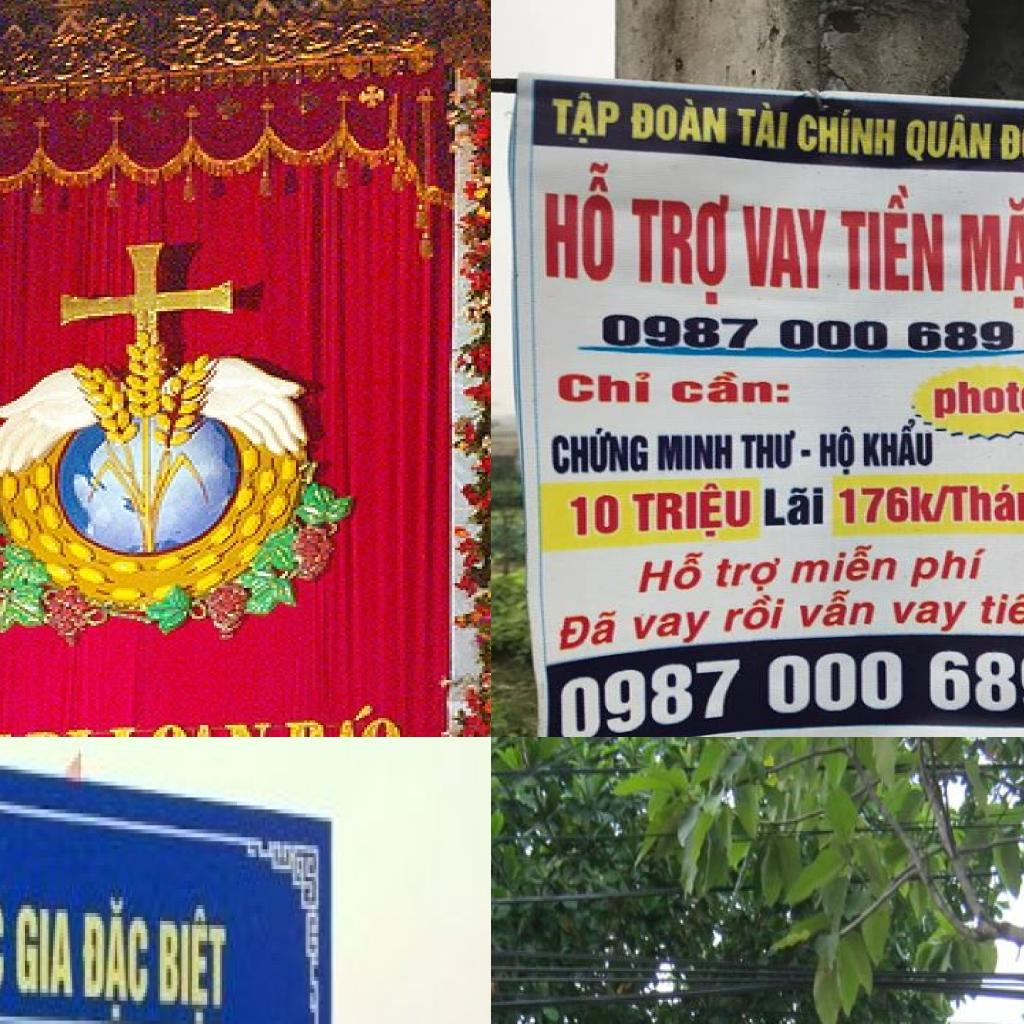text: (558, 654, 751, 737), (626, 187, 738, 310), (836, 180, 950, 294), (534, 155, 619, 288), (76, 885, 153, 1024), (762, 647, 906, 716), (155, 897, 230, 1024), (739, 202, 834, 298), (950, 194, 1024, 312), (629, 480, 753, 547), (922, 646, 1024, 715), (594, 311, 764, 352), (792, 101, 900, 158), (897, 106, 996, 168), (16, 901, 76, 1001), (624, 98, 733, 151), (547, 424, 652, 476), (834, 482, 935, 530), (790, 543, 900, 587), (546, 86, 624, 148), (905, 539, 992, 592), (789, 586, 888, 632), (769, 315, 888, 353), (664, 372, 794, 406), (922, 379, 1024, 422), (897, 318, 1022, 353), (932, 482, 1024, 528), (860, 418, 941, 470), (551, 367, 658, 406), (279, 706, 413, 737), (631, 548, 712, 596), (652, 430, 736, 474), (759, 479, 827, 531), (555, 604, 624, 655), (629, 606, 715, 646), (734, 98, 793, 154), (712, 552, 787, 596), (888, 596, 971, 635), (722, 594, 793, 636), (736, 428, 800, 474), (107, 720, 274, 737), (565, 490, 624, 536), (976, 589, 1024, 638), (816, 426, 860, 478), (997, 115, 1024, 170)
